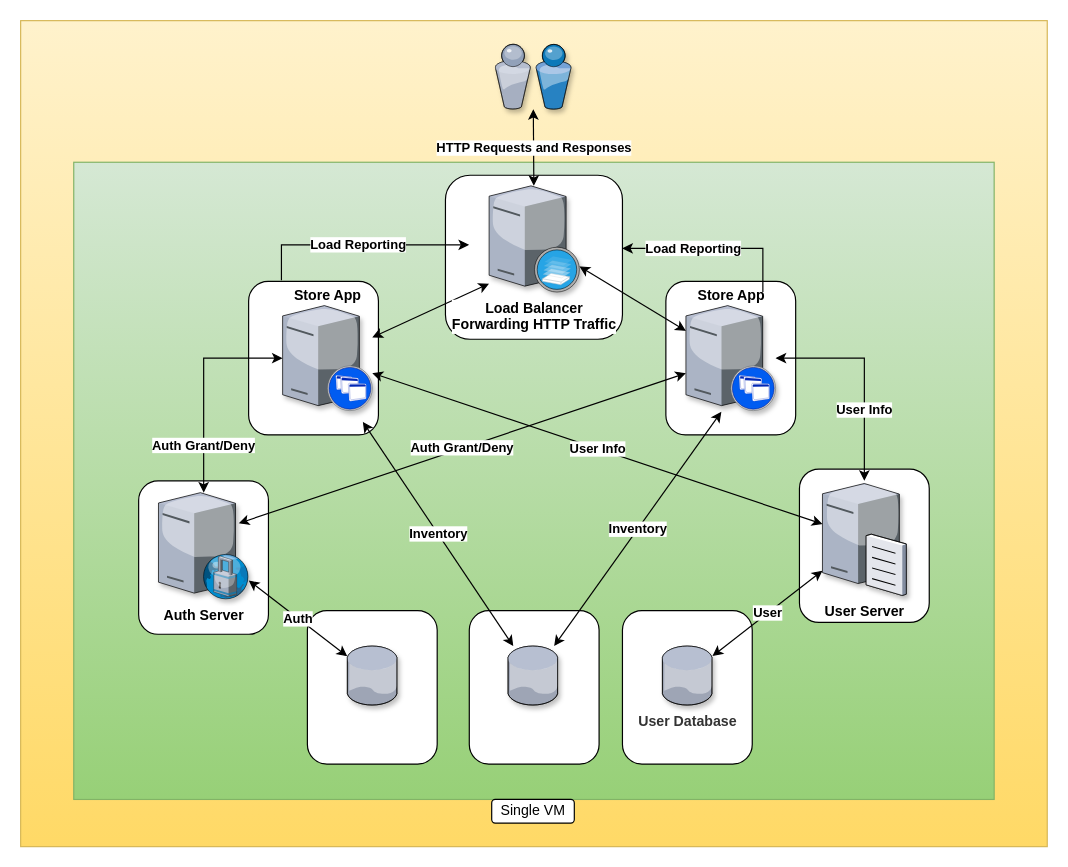
Some shapes in this 1068 by 867 pixel diagram are drawn without their labels. Here are the shapes that lost their labels. From the top down, the centre of each, then its label:
pixel 534 78: Users
pixel 373 677: Credential Database
pixel 534 677: Inventory Database
